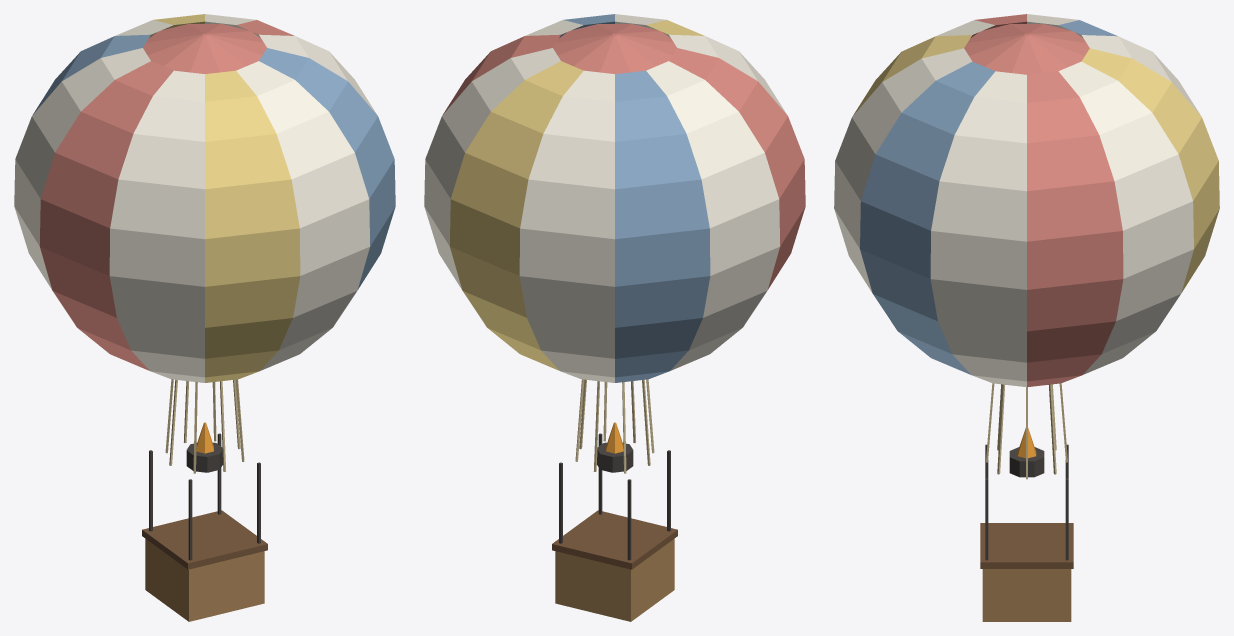
Rendered from balloon.glb.
The picture shows the model from 3 angles, left to right: view 1: azimuth 30°, elevation 25°; view 2: azimuth 150°, elevation 25°; view 3: azimuth 270°, elevation 25°; orthographic projection.
Visible parts, largest first — view 1: balloon-envelope-cream, balloon-envelope-yellow, balloon-envelope-red, balloon-envelope-blue, balloon-basket-wicker, balloon-basket-rim, balloon-basket-iron, balloon-envelope-rope; view 2: balloon-envelope-cream, balloon-envelope-blue, balloon-envelope-yellow, balloon-envelope-red, balloon-basket-wicker, balloon-basket-rim, balloon-basket-iron, balloon-envelope-rope; view 3: balloon-envelope-cream, balloon-envelope-red, balloon-envelope-blue, balloon-envelope-yellow, balloon-basket-wicker, balloon-basket-rim, balloon-basket-iron, balloon-envelope-rope.
Part boxes in pixels (x1,y1,x2,y2): balloon-envelope-cream: (14,14,376,382); balloon-envelope-yellow: (149,14,300,382); balloon-envelope-red: (39,20,294,370); balloon-envelope-blue: (33,34,395,289); balloon-basket-wicker: (145,539,264,621); balloon-basket-rim: (142,510,267,569); balloon-basket-iron: (149,433,260,560); balloon-envelope-rope: (165,379,244,473); balloon-envelope-cream: (424,14,786,382); balloon-envelope-blue: (559,14,710,382); balloon-envelope-yellow: (449,20,704,370); balloon-envelope-red: (443,24,805,289); balloon-basket-wicker: (555,539,674,621); balloon-basket-rim: (552,510,677,569); balloon-basket-iron: (559,433,670,560); balloon-envelope-rope: (575,379,654,473); balloon-envelope-cream: (834,14,1201,387); balloon-envelope-red: (964,14,1123,387); balloon-envelope-blue: (860,20,1117,374); balloon-envelope-yellow: (852,35,1219,292); balloon-basket-wicker: (982,569,1071,621); balloon-basket-rim: (980,523,1073,568); balloon-basket-iron: (985,444,1068,560); balloon-envelope-rope: (986,383,1067,479).
Size of the model in its own units: 6.55 by 10.64 by 6.55.
